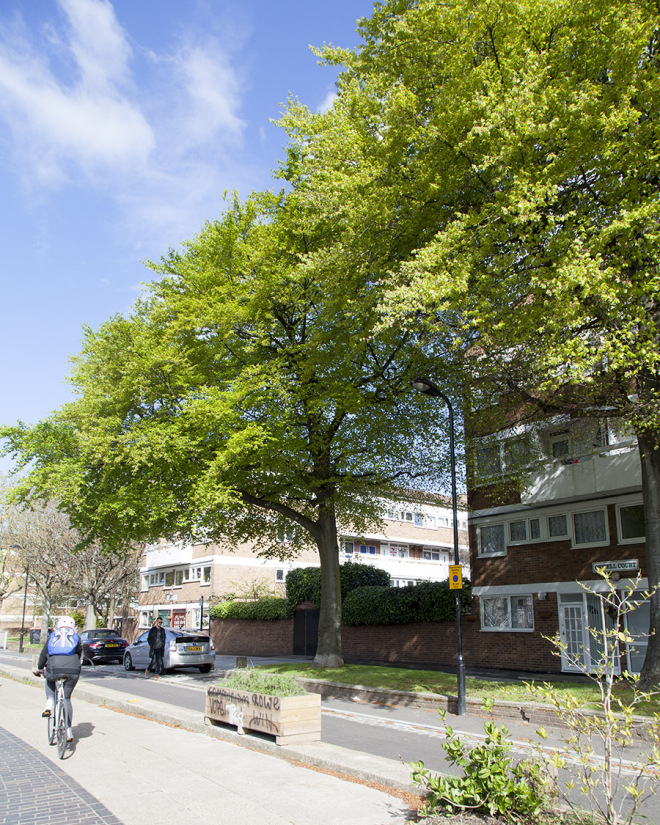tree: (93, 187, 491, 709)
